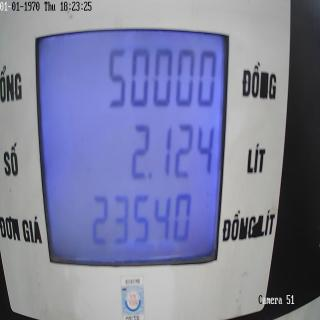screen: (32, 9, 234, 274)
